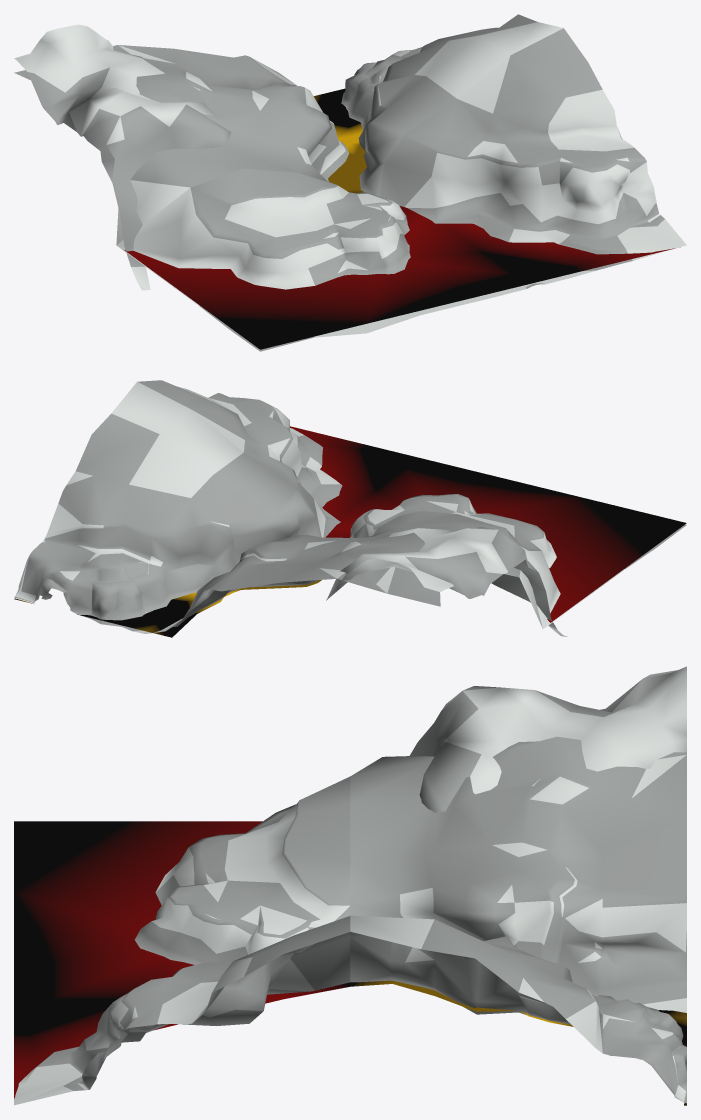
3 views of the same model, one above another, from view 1: azimuth 30°, elevation 25°; view 2: azimuth 150°, elevation 25°; view 3: azimuth 270°, elevation 25° (orthographic). The views are drawn at different scales.
Parts seen in each view (by area): view 1: G:\FFXIV-MapTools\exports\f1f3\bg\ffxiv\fst_f1\fld\f1f3\bgpl (×10); view 2: G:\FFXIV-MapTools\exports\f1f3\bg\ffxiv\fst_f1\fld\f1f3\bgpl (×9); view 3: G:\FFXIV-MapTools\exports\f1f3\bg\ffxiv\fst_f1\fld\f1f3\bgpl (×9).
Boxes of the visible parts, x1,y1,x2,y2 form: G:\FFXIV-MapTools\exports\f1f3\bg\ffxiv\fst_f1\fld\f1f3\bgpl (×10): (14,14,686,351); G:\FFXIV-MapTools\exports\f1f3\bg\ffxiv\fst_f1\fld\f1f3\bgpl (×9): (14,380,686,637); G:\FFXIV-MapTools\exports\f1f3\bg\ffxiv\fst_f1\fld\f1f3\bgpl (×9): (14,666,686,1105).
Size of the model in its own units: 128 by 45.57 by 128.
